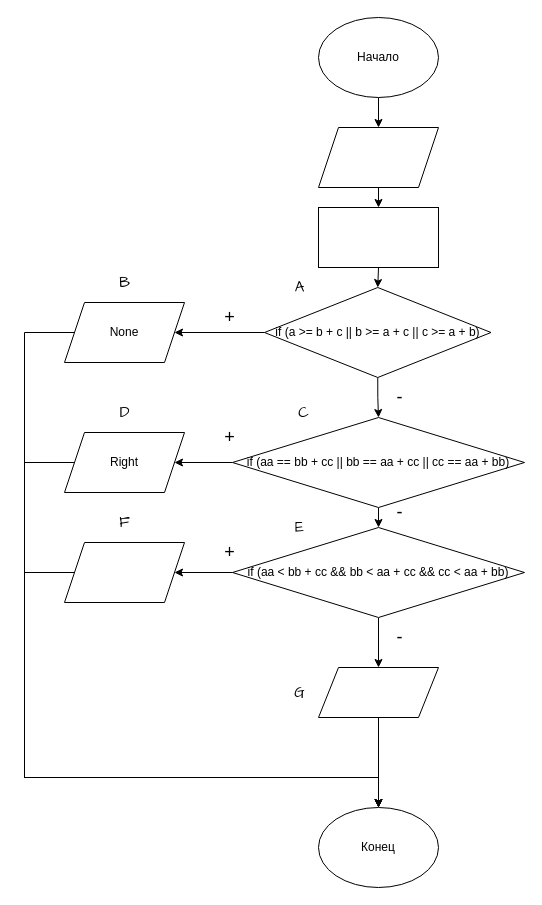
Image size: 542x905. Some labels were removed from this diagram. Each missing label, with the centre of its shape:
aa = a * a bb = b * b cc = c * c: the point at 378,237
Acute: the point at 124,572
Obtuse: the point at 378,692
Ввод a, b, c: the point at 378,157
